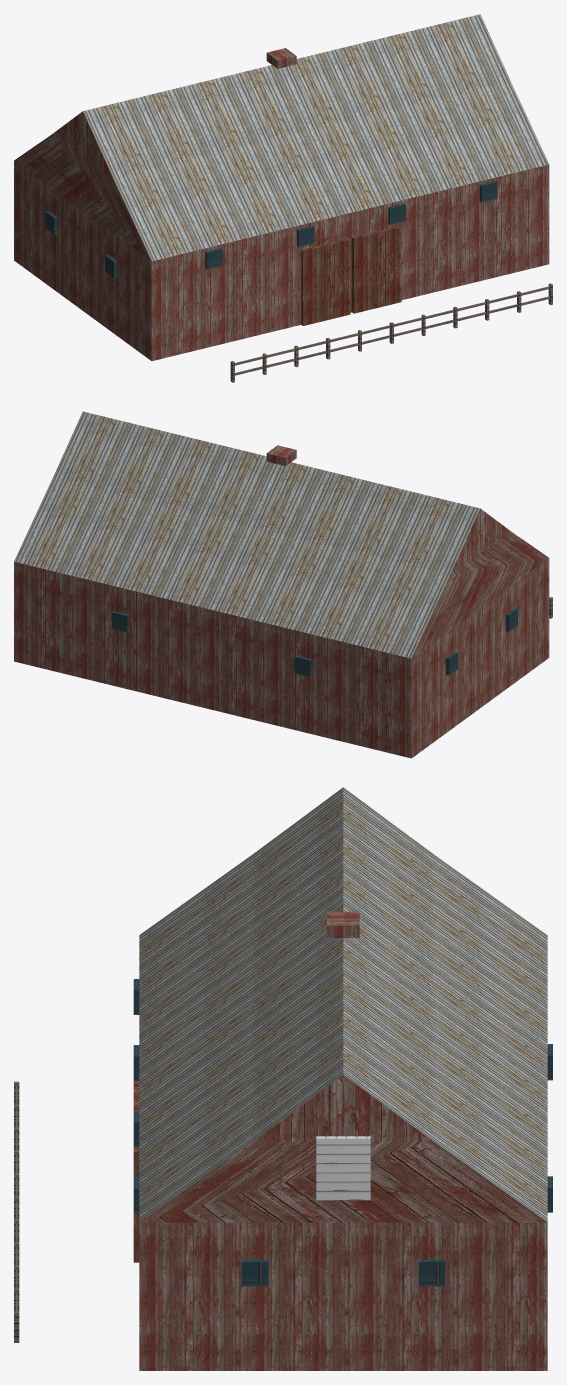
File: classic-red-barn_lod0.gltf
The picture shows the model from 3 angles, top to bottom: view 1: azimuth 30°, elevation 25°; view 2: azimuth 150°, elevation 25°; view 3: azimuth 270°, elevation 25°; orthographic projection. The views are drawn at different scales.
Visible parts, largest first — view 1: classic-red-barn_roof, classic-red-barn_walls, classic-red-barn_fen_19-red-timber_0_t, classic-red-barn_gable_ends, classic-red-barn__fence, classic-red-barn_fen_07-glass-curtain-blue_1, classic-red-barn__cupola; view 2: classic-red-barn_roof, classic-red-barn_walls, classic-red-barn_gable_ends, classic-red-barn_fen_07-glass-curtain-blue_1, classic-red-barn__cupola; view 3: classic-red-barn_roof, classic-red-barn_walls, classic-red-barn_gable_ends, classic-red-barn__hayloft_door, classic-red-barn_fen_07-glass-curtain-blue_1, classic-red-barn__fence, classic-red-barn__cupola, classic-red-barn_fen_19-red-timber_0_t.
Part boxes in pixels (box(x1,y1,x2,y2)): classic-red-barn_roof: box(83, 14, 548, 261); classic-red-barn_walls: box(14, 161, 549, 360); classic-red-barn_fen_19-red-timber_0_t: box(301, 226, 401, 325); classic-red-barn_gable_ends: box(14, 111, 151, 260); classic-red-barn__fence: box(230, 283, 552, 382); classic-red-barn_fen_07-glass-curtain-blue_1: box(45, 181, 497, 278); classic-red-barn__cupola: box(266, 48, 296, 68); classic-red-barn_roof: box(14, 411, 480, 658); classic-red-barn_walls: box(14, 558, 549, 758); classic-red-barn_gable_ends: box(412, 508, 548, 657); classic-red-barn_fen_07-glass-curtain-blue_1: box(111, 608, 517, 677); classic-red-barn__cupola: box(266, 445, 296, 466); classic-red-barn_roof: box(139, 787, 547, 1222); classic-red-barn_walls: box(139, 1222, 547, 1370); classic-red-barn_gable_ends: box(140, 1075, 546, 1222); classic-red-barn__hayloft_door: box(316, 1136, 370, 1200); classic-red-barn_fen_07-glass-curtain-blue_1: box(133, 979, 552, 1286); classic-red-barn__fence: box(14, 1081, 19, 1342); classic-red-barn__cupola: box(327, 911, 359, 937); classic-red-barn_fen_19-red-timber_0_t: box(133, 1081, 139, 1262).
Bounding box in the file's own units: 25.4 × 12.5 × 19.8.
